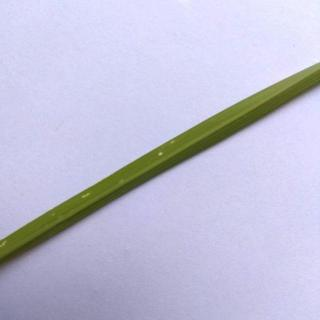Blast: (152, 150, 174, 165), (81, 192, 99, 200)
